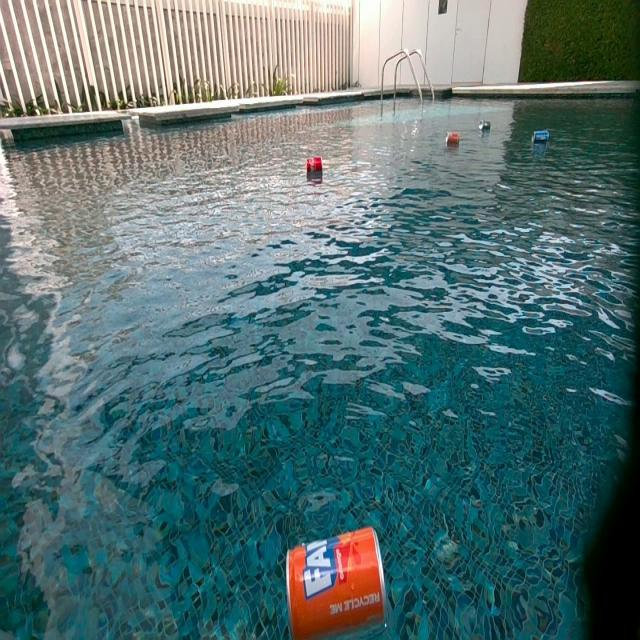Cans: (287, 525, 393, 640), (306, 158, 324, 175), (531, 130, 549, 147), (446, 132, 461, 148), (480, 119, 492, 131)
